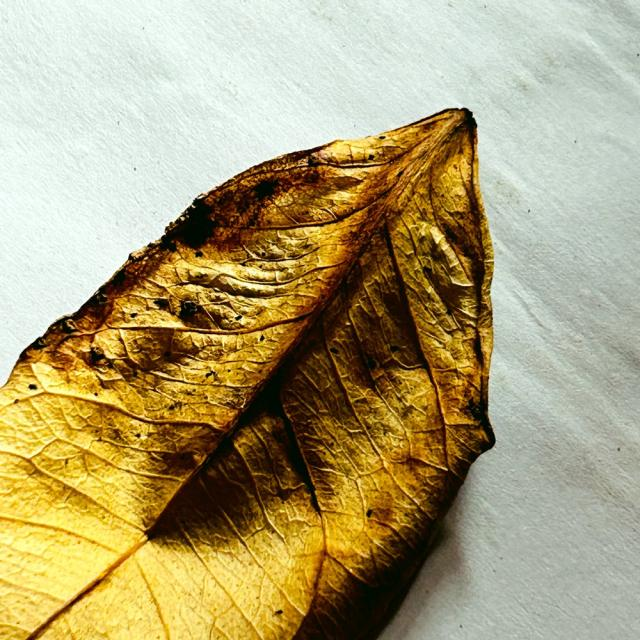DryLeaf_Lemon: (0, 109, 494, 639)
